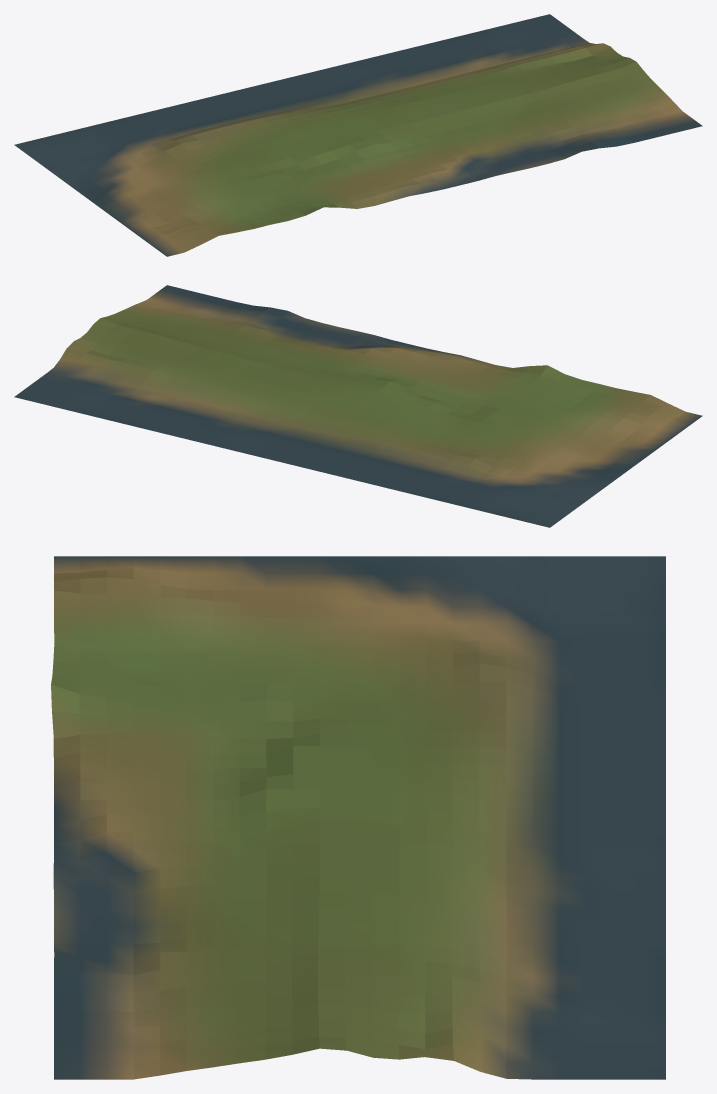
Rendered from MAPA 6.glb.
3 views of the same model, one above another, from view 1: azimuth 30°, elevation 25°; view 2: azimuth 150°, elevation 25°; view 3: azimuth 270°, elevation 25° (orthographic). The views are drawn at different scales.
Parts seen in each view (by area): view 1: MAPA 6; view 2: MAPA 6; view 3: MAPA 6.
Boxes of the visible parts, <box> form: MAPA 6: <box>14,14,702,256</box>; MAPA 6: <box>14,285,702,527</box>; MAPA 6: <box>51,556,665,1079</box>.
Bounding box in the file's own units: 57.47 × 1.6 × 28.53.
